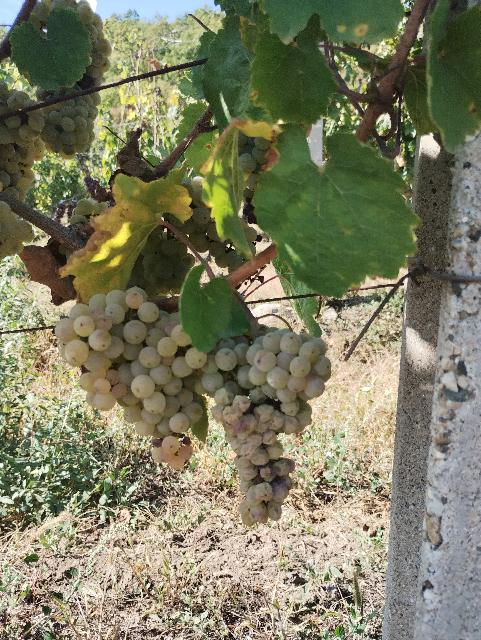grapes: (54, 286, 225, 470), (202, 328, 331, 526)
